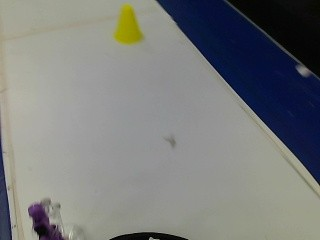cone: (104, 1, 148, 44)
